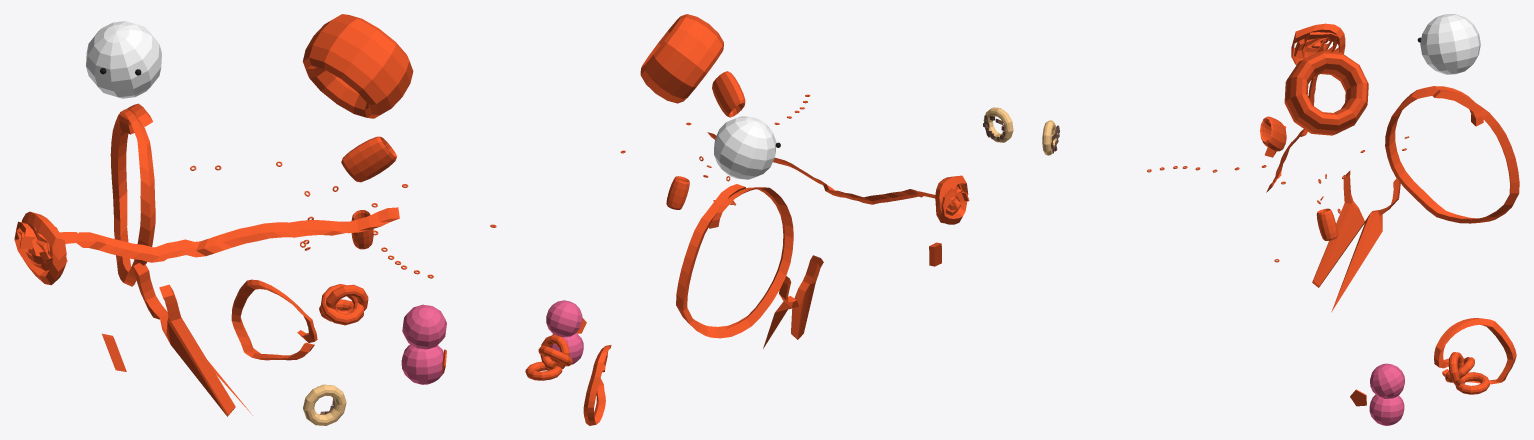
3 views of the same model, side by side, from view 1: azimuth 30°, elevation 25°; view 2: azimuth 150°, elevation 25°; view 3: azimuth 270°, elevation 25° (orthographic). The views are drawn at different scales.
Parts seen in each view (by area): view 1: mesh_73411841, group_1699915566, group_577205537, mesh_133841570, group_1979535133, group_451146773, mesh_812675036, mesh_1402815471, mesh_266025430, mesh_1619699854, mesh_417552351, mesh_2028127514 (+1 smaller); view 2: mesh_73411841, group_577205537, mesh_133841570, group_1699915566, group_1979535133, group_451146773, mesh_1402815471, mesh_812675036, mesh_136622348, mesh_1619699854, mesh_2028127514, mesh_1437601140; view 3: mesh_73411841, group_577205537, group_1979535133, mesh_133841570, group_1699915566, group_451146773, mesh_1402815471, mesh_266025430, mesh_812675036, mesh_136622348, mesh_1437601140.
Part boxes in pixels (left/top/right/bottom): mesh_73411841: left=302, top=14, right=413, bottom=118; group_1699915566: left=14, top=207, right=399, bottom=285; group_577205537: left=110, top=103, right=155, bottom=286; mesh_133841570: left=86, top=21, right=161, bottom=98; group_1979535133: left=133, top=263, right=252, bottom=416; group_451146773: left=231, top=279, right=317, bottom=360; mesh_812675036: left=341, top=136, right=396, bottom=182; mesh_1402815471: left=402, top=304, right=446, bottom=349; mesh_266025430: left=401, top=344, right=443, bottom=384; mesh_1619699854: left=303, top=384, right=346, bottom=425; mesh_417552351: left=321, top=284, right=364, bottom=325; mesh_2028127514: left=326, top=284, right=368, bottom=313; mesh_73411841: left=640, top=14, right=723, bottom=103; group_577205537: left=676, top=184, right=793, bottom=338; mesh_133841570: left=714, top=116, right=776, bottom=179; group_1699915566: left=707, top=132, right=968, bottom=224; group_1979535133: left=763, top=255, right=823, bottom=348; group_451146773: left=583, top=345, right=611, bottom=425; mesh_1402815471: left=546, top=300, right=582, bottom=337; mesh_812675036: left=712, top=71, right=745, bottom=117; mesh_136622348: left=666, top=176, right=689, bottom=209; mesh_1619699854: left=983, top=107, right=1013, bottom=142; mesh_2028127514: left=540, top=334, right=569, bottom=369; mesh_1437601140: left=525, top=361, right=562, bottom=380; mesh_73411841: left=1284, top=51, right=1368, bottom=135; group_577205537: left=1385, top=86, right=1519, bottom=223; group_1979535133: left=1312, top=170, right=1400, bottom=312; mesh_133841570: left=1420, top=14, right=1480, bottom=74; group_1699915566: left=1266, top=23, right=1345, bottom=192; group_451146773: left=1434, top=318, right=1516, bottom=384; mesh_1402815471: left=1370, top=363, right=1404, bottom=398; mesh_266025430: left=1369, top=394, right=1404, bottom=425; mesh_812675036: left=1260, top=116, right=1286, bottom=151; mesh_136622348: left=1316, top=208, right=1337, bottom=240; mesh_1437601140: left=1455, top=372, right=1489, bottom=394.
Bounding box in the file's own units: 166 × 142 × 187.
